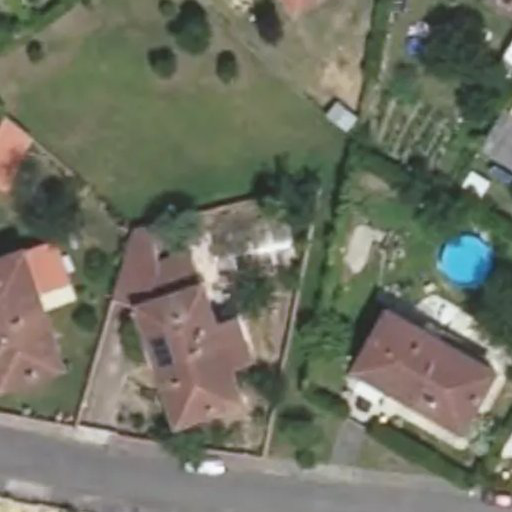pool: (214, 223, 297, 261)
